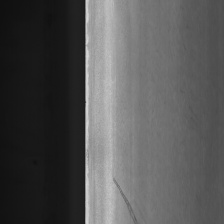water_spot: (109, 168, 140, 224)
